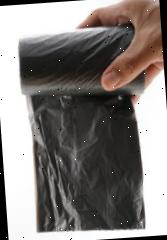general: (16, 22, 156, 236)
